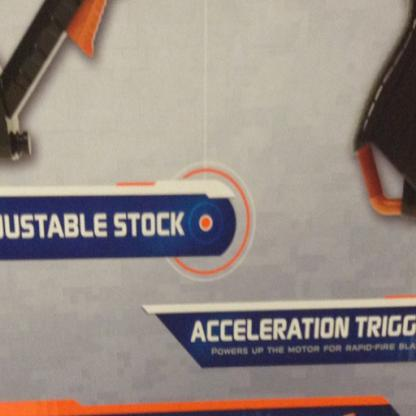gun: (0, 0, 415, 229)
